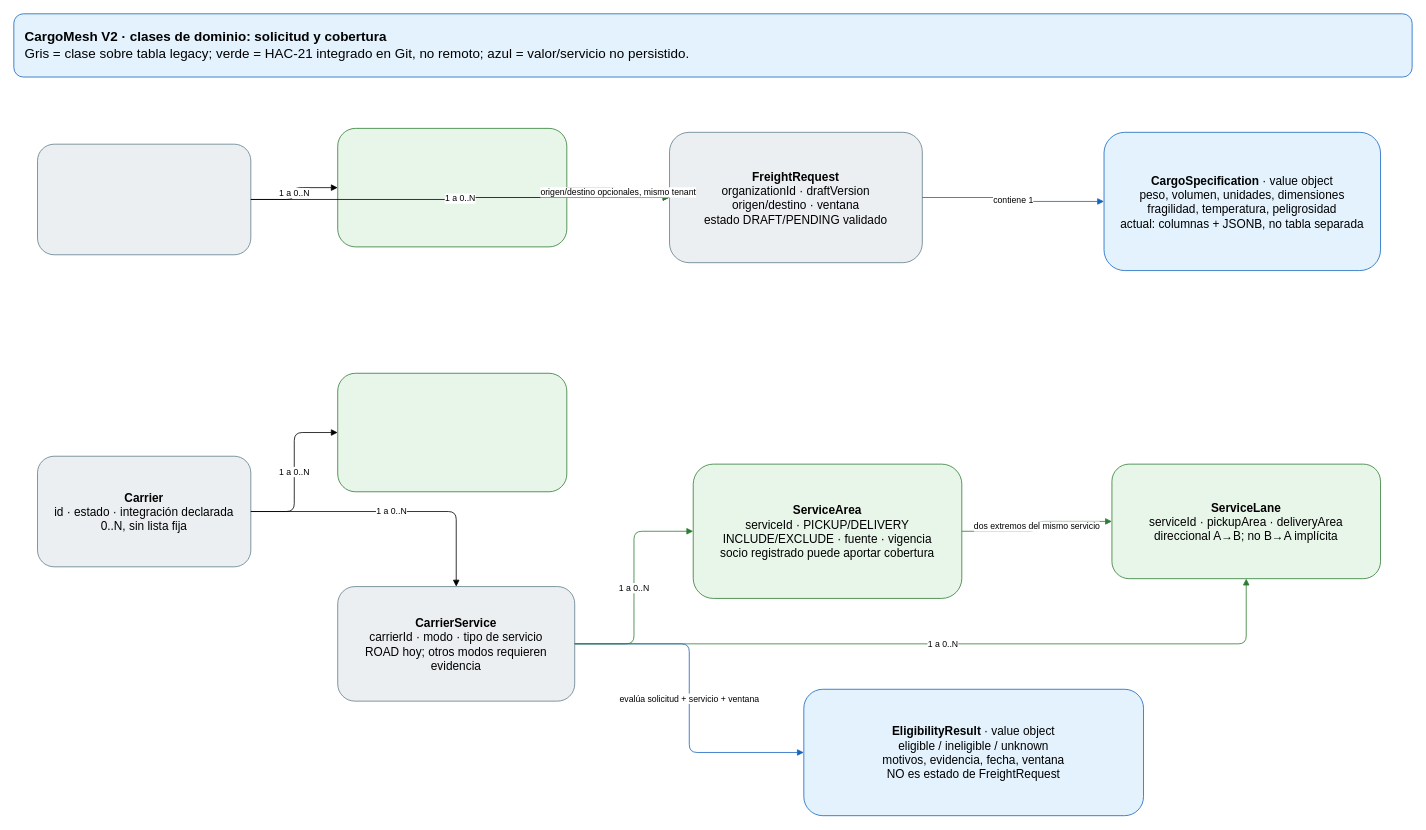
Some shapes in this 1426 by 830 pixel diagram are drawn without their labels. The box of each missing label's shape, as (x1, y1, x2, y2) in pixels:
CarrierDepot carrierId · ubicación no concede alcance geográfico: (337, 372, 567, 492)
Facility organizationId · ubicación sede del shipper ≠ cobertura: (337, 128, 567, 247)
Organization id · estado · tenant 1..N miembros; 0..N sedes: (37, 143, 251, 255)
